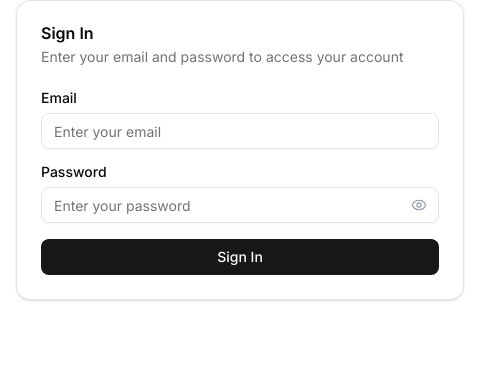
Test case: LoginForm › should handle login errors
In the field labelled "Email": (240, 131) [41,113,439,149], type "test@example.com"
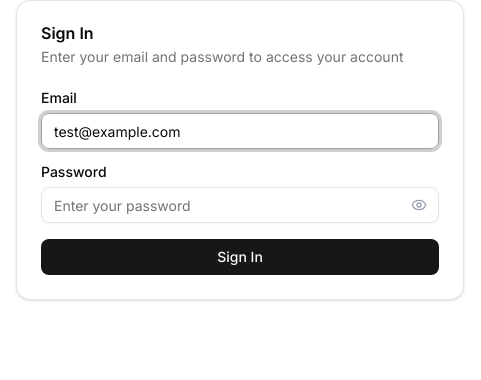
In the password field labelled "Password": (240, 205) [41,187,439,223], type "wrongpassword"
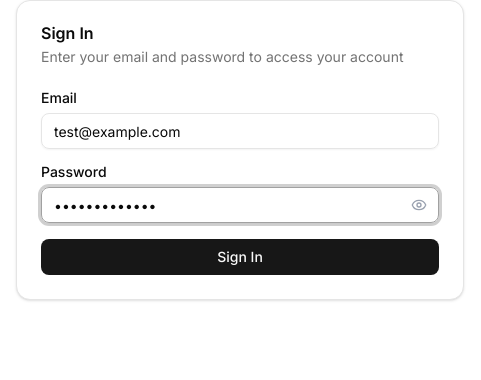
Click the button "Sign In": click(240, 257) [41,239,439,275]
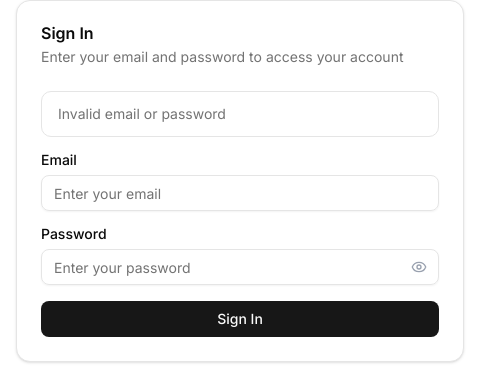
Expected: the text "Invalid email or password" is shown, [58,105,226,122]
